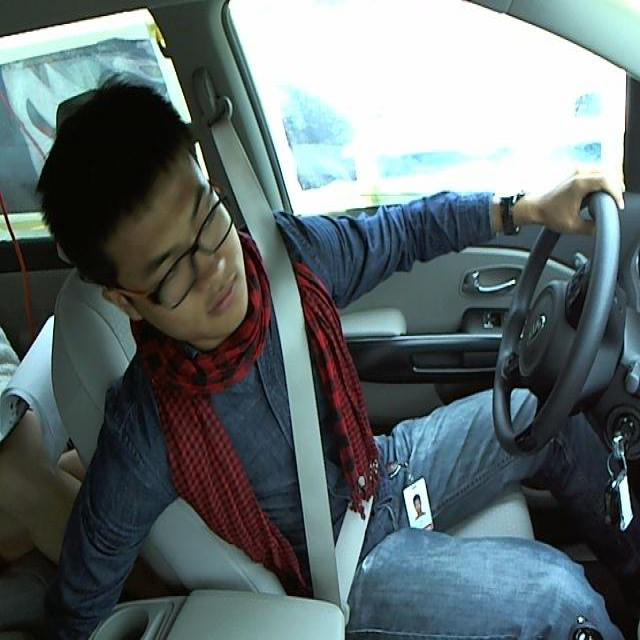seatbelt: (253, 247, 381, 608)
